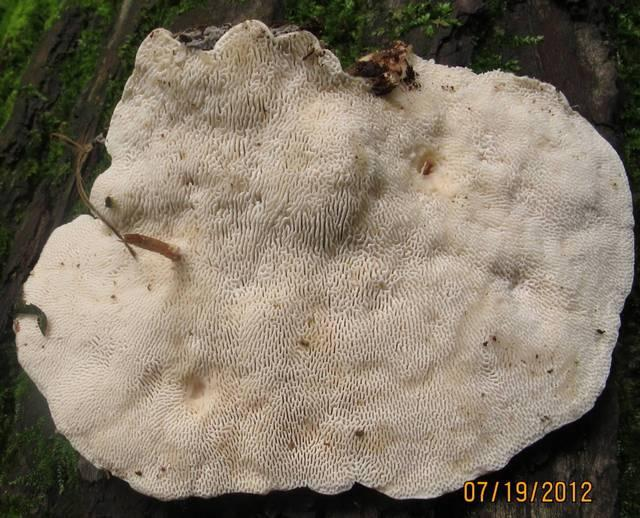poisonous_mushroom: (9, 17, 636, 503)
